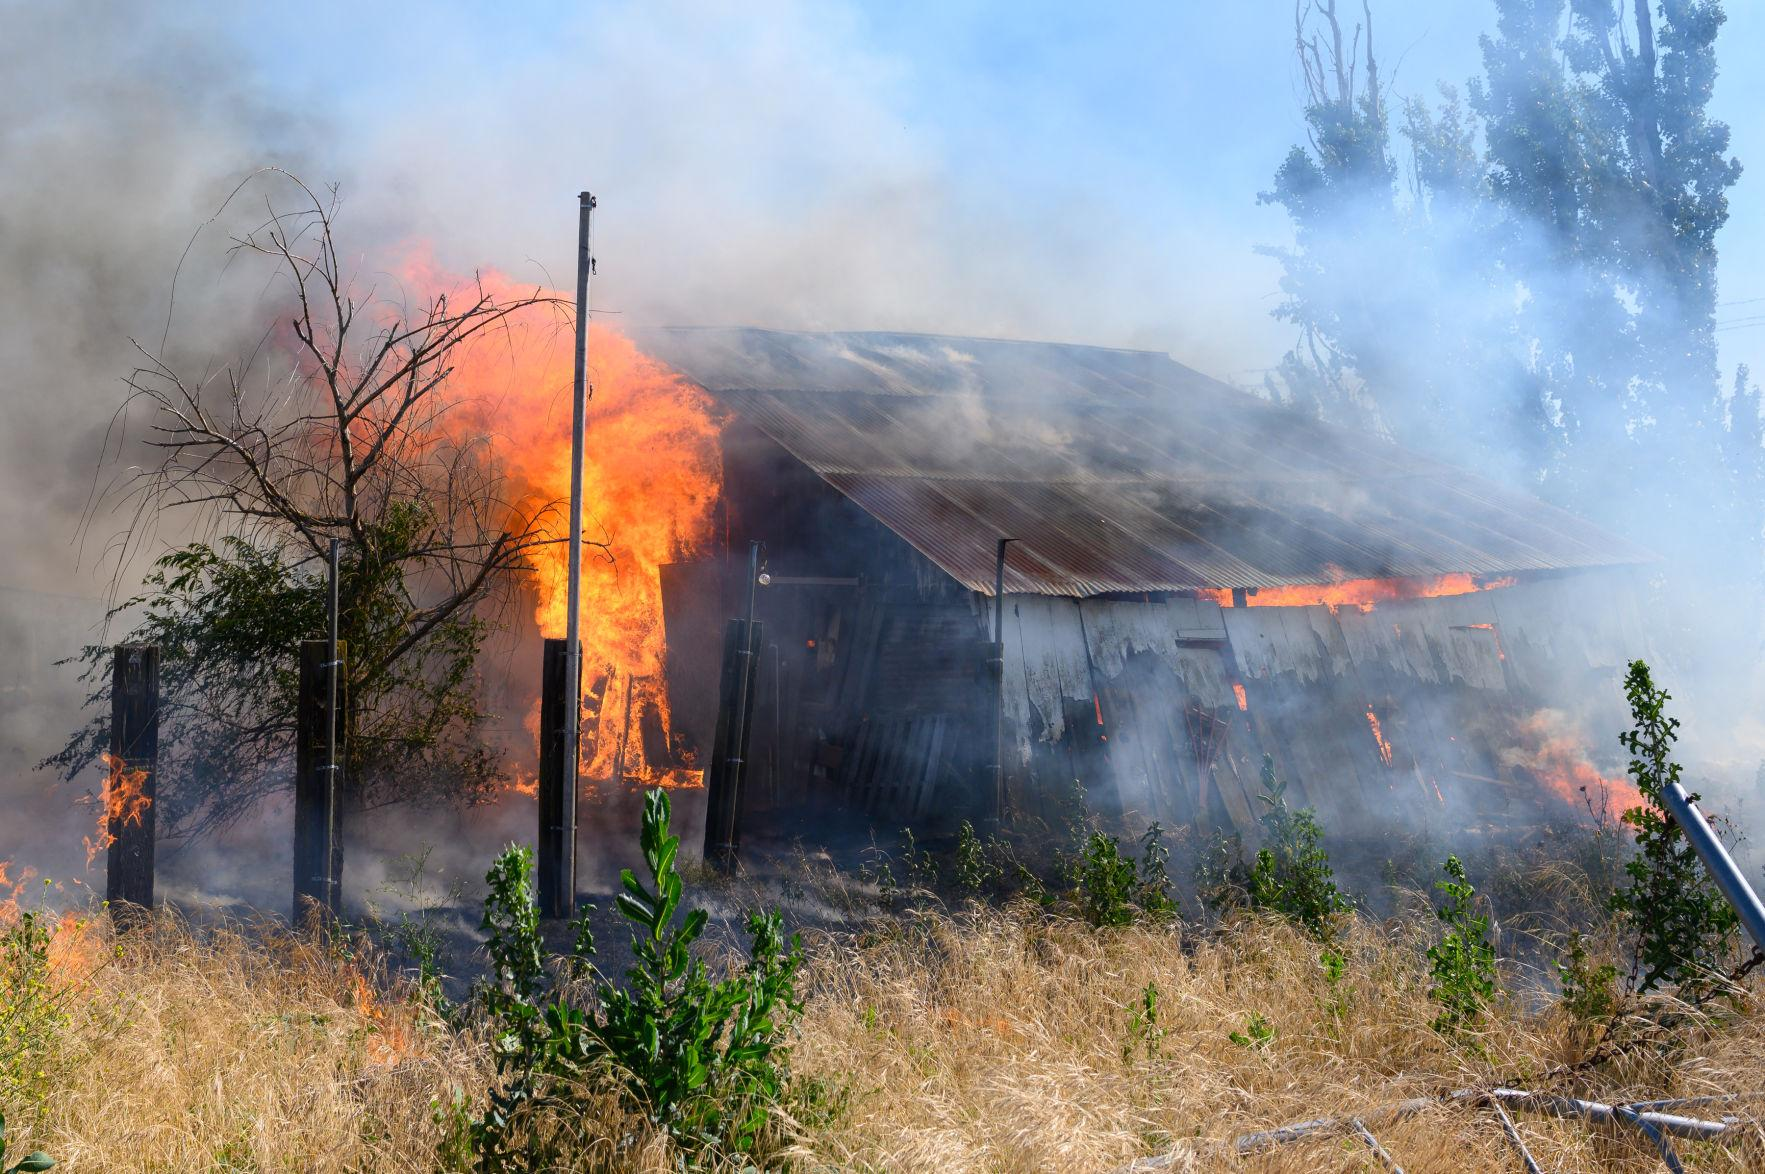Fire: (367, 250, 755, 850), (1192, 508, 1696, 873)
